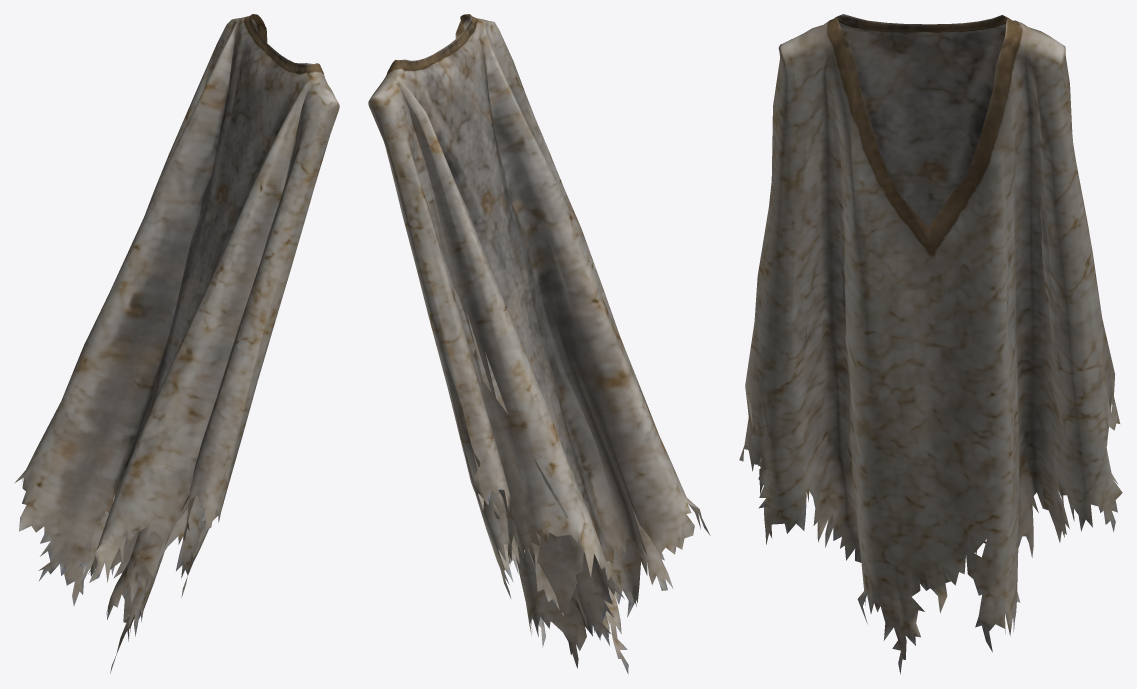
Rendered from Cape_Common_01.glb.
The picture shows the model from 3 angles, left to right: view 1: azimuth 30°, elevation 25°; view 2: azimuth 150°, elevation 25°; view 3: azimuth 270°, elevation 25°; orthographic projection. The views are drawn at different scales.
Parts seen in each view (by area): view 1: Cape_Common_01; view 2: Cape_Common_01; view 3: Cape_Common_01.
Part boxes in pixels (box(x1,y1,x2,y2)): Cape_Common_01: box(15, 14, 339, 672); Cape_Common_01: box(368, 14, 710, 674); Cape_Common_01: box(739, 14, 1122, 674).
Size of the model in its own units: 0.4373 by 0.9967 by 0.4465.
Materials: 1 (1 with a texture image).
